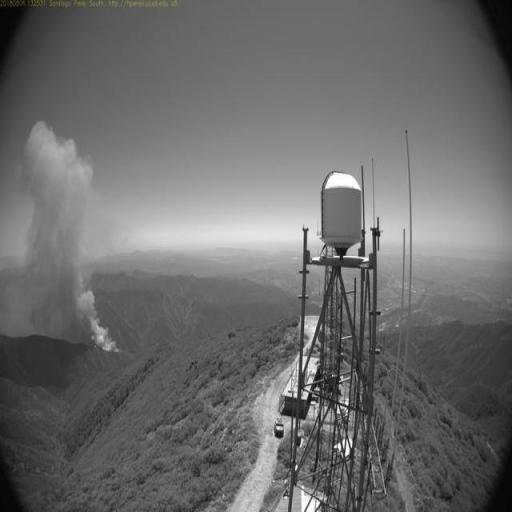smoke: (2, 120, 120, 356)
